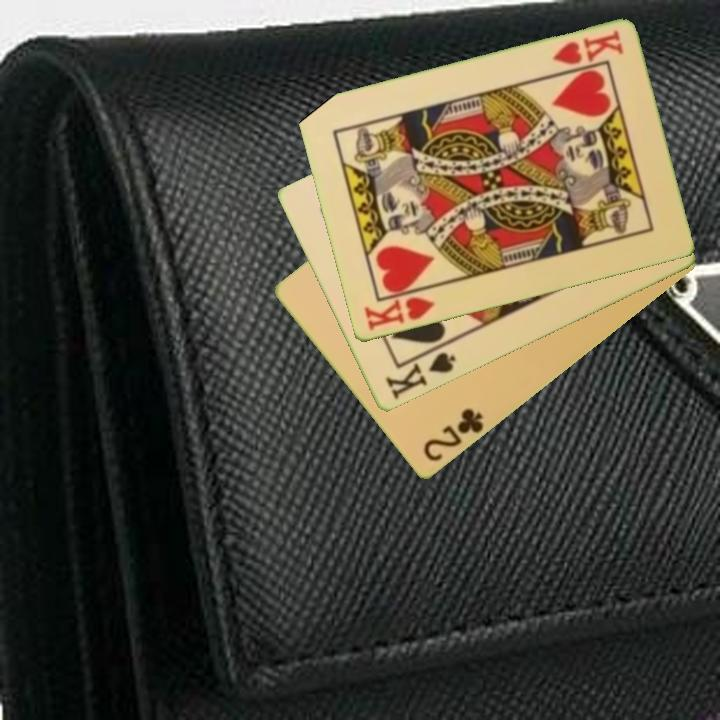2c: (419, 405, 487, 466)
Kh: (360, 284, 439, 334), (548, 27, 626, 69)
Ks: (381, 341, 459, 403)
